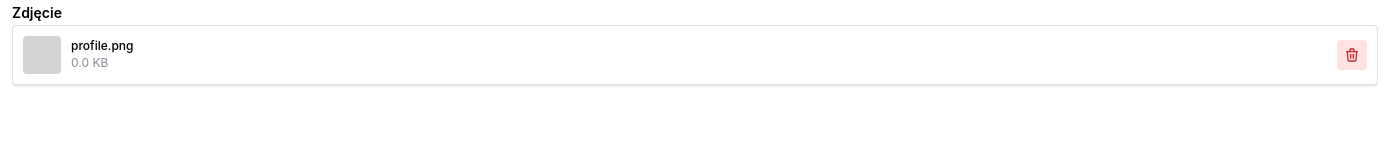
Test: ImageInput › removes a selected image when the delete action is used
Earlier steps of the test are not shown.
Expected: the text "profile.png" is shown, [71,38,134,53]
Click the button named "Usuń".
click(1352, 55)  # box [1337,40,1367,70]
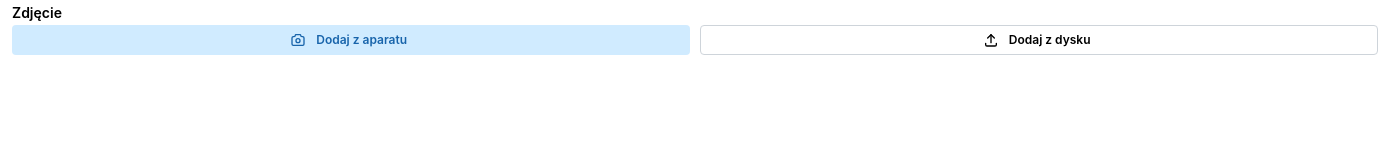
Now the text "profile.png" is gone
Now the button "Dodaj z dysku" is shown, box [700,25,1378,55]
